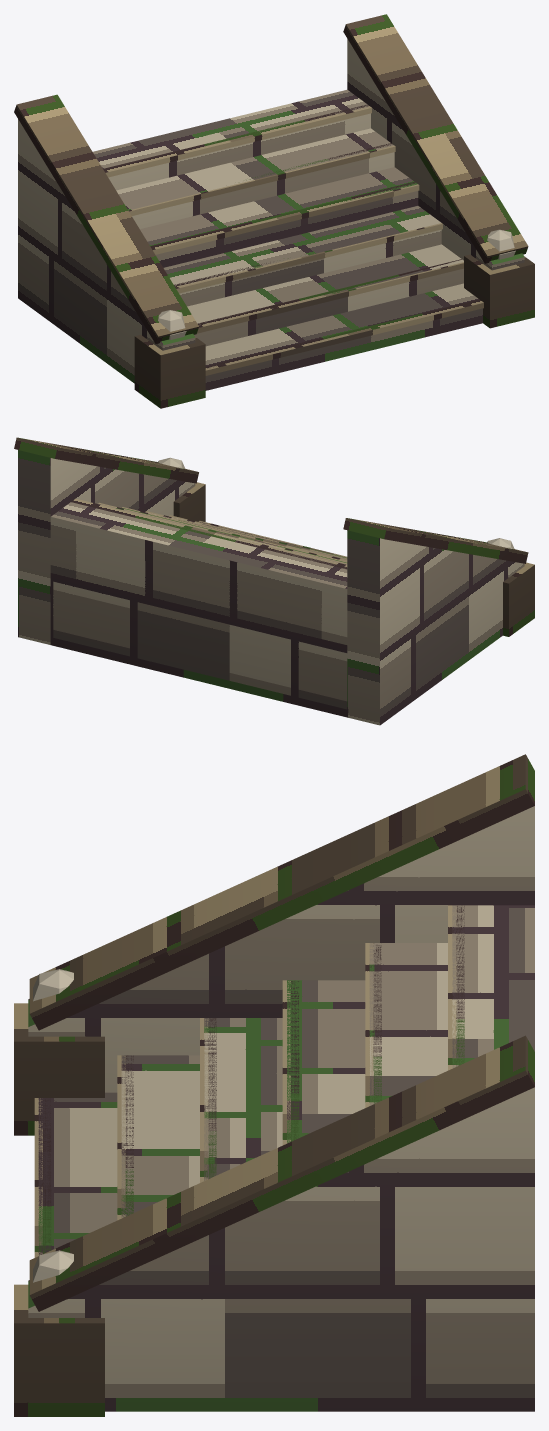
The model's file is scene_stair_hall.glb.
3 views of the same model, one above another, from view 1: azimuth 30°, elevation 25°; view 2: azimuth 150°, elevation 25°; view 3: azimuth 270°, elevation 25° (orthographic). The views are drawn at different scales.
Parts seen in each view (by area): view 1: scene_stair_hall; view 2: scene_stair_hall; view 3: scene_stair_hall.
Boxes of the visible parts, box(x1,y1,x2,y2) form: scene_stair_hall: box(14, 14, 534, 408); scene_stair_hall: box(14, 437, 534, 725); scene_stair_hall: box(14, 754, 534, 1416).
Size of the model in its own units: 3.66 by 1.84 by 2.52.
2 materials, 1 textured.
